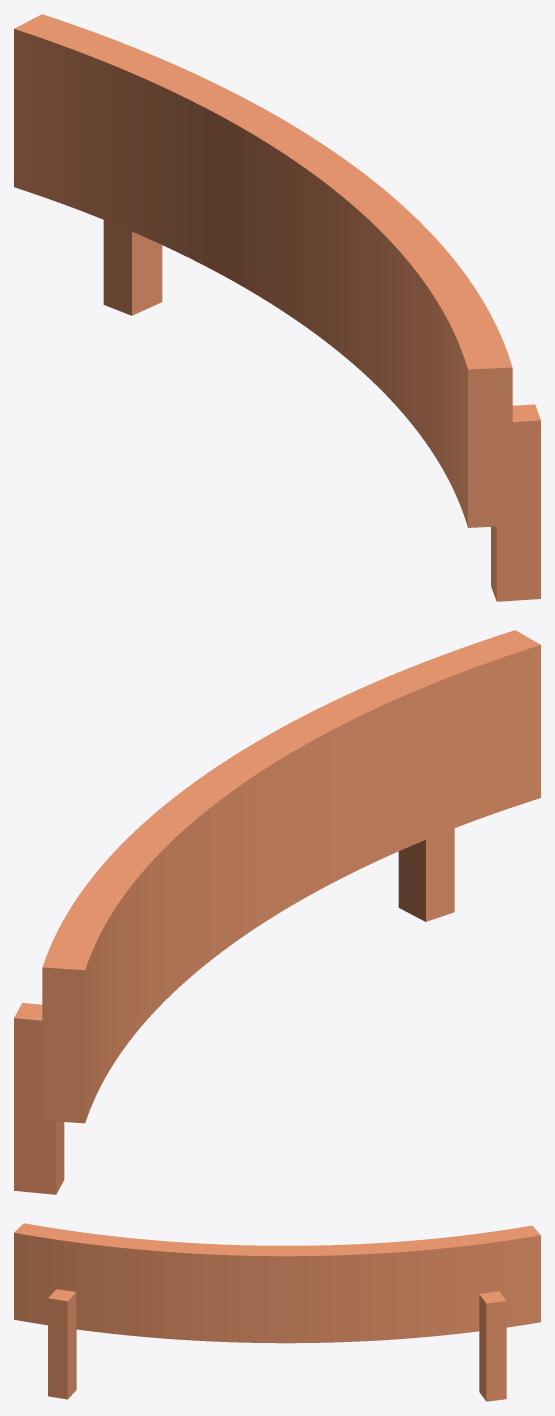
File: Fence2.fbx
The picture shows the model from 3 angles, top to bottom: view 1: azimuth 30°, elevation 25°; view 2: azimuth 150°, elevation 25°; view 3: azimuth 270°, elevation 25°; orthographic projection. The views are drawn at different scales.
Visible parts, largest first — view 1: Cube.002, Cube, Cube.001; view 2: Cube.002, Cube.001, Cube; view 3: Cube.002, Cube, Cube.001.
Boxes of the visible parts, x1,y1,x2,y2 form: Cube.002: (14, 14, 512, 527); Cube: (491, 404, 540, 601); Cube.001: (103, 220, 162, 315); Cube.002: (42, 630, 540, 1123); Cube.001: (14, 1003, 64, 1194); Cube: (398, 828, 454, 921); Cube.002: (14, 1223, 540, 1343); Cube: (48, 1289, 76, 1399); Cube.001: (479, 1291, 506, 1401).
Size of the model in its own units: 97.29 by 203 by 656.
